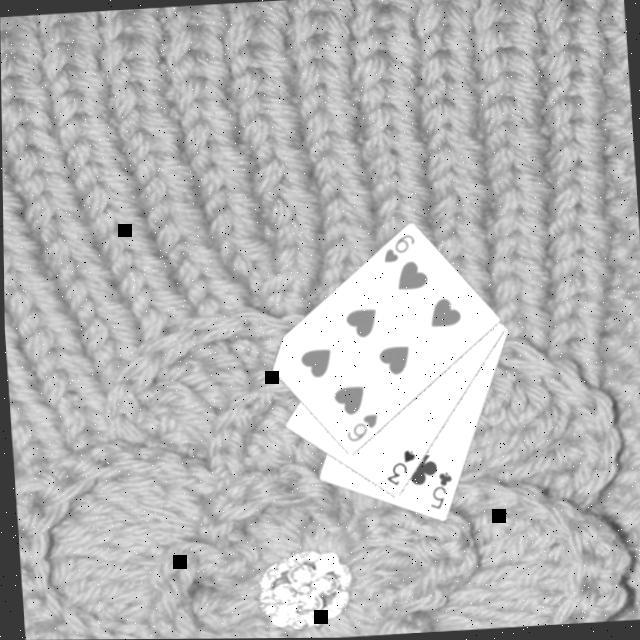3S: (379, 448, 418, 492)
5C: (424, 470, 456, 516)
6H: (340, 412, 380, 447), (377, 233, 418, 267)
